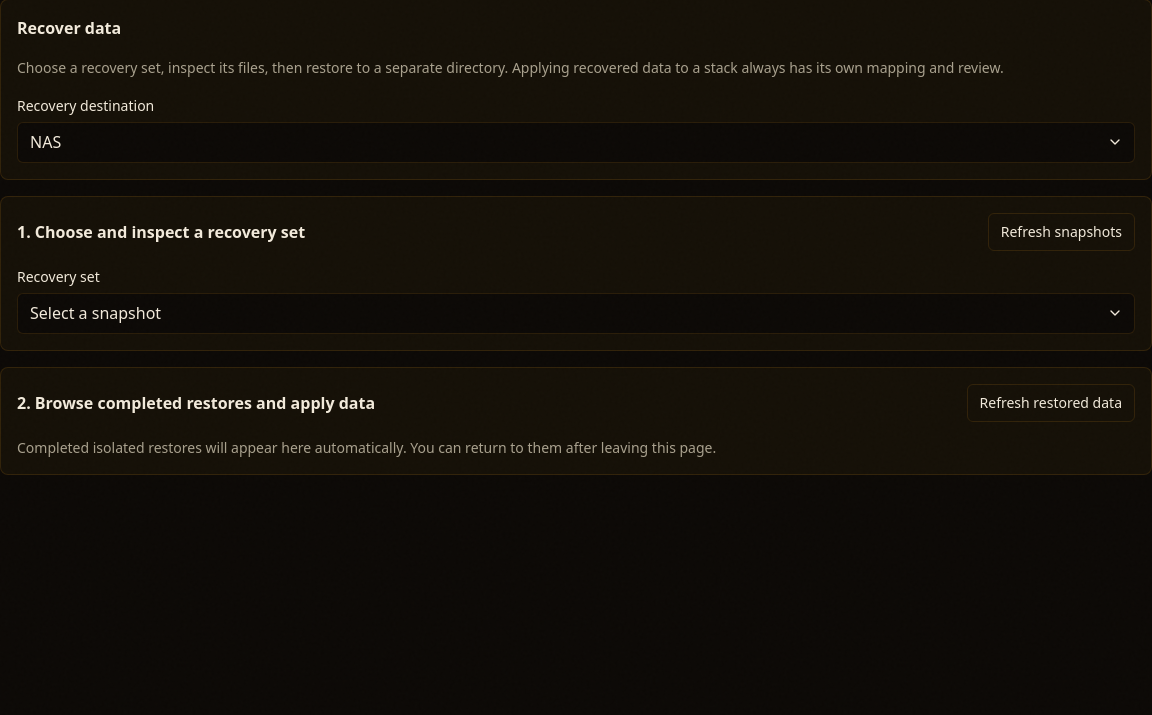
Test: Continuous recovery workspace › compares the chosen source against a baseline snapshot
The image size is (1152, 715).
Select "10/1/2026, 12:00:00 AM UTC · snap · unknown · debian" in the dropdown labelled "Recovery set" at (576, 313), box top-left (17, 293), bottom-right (1135, 334)
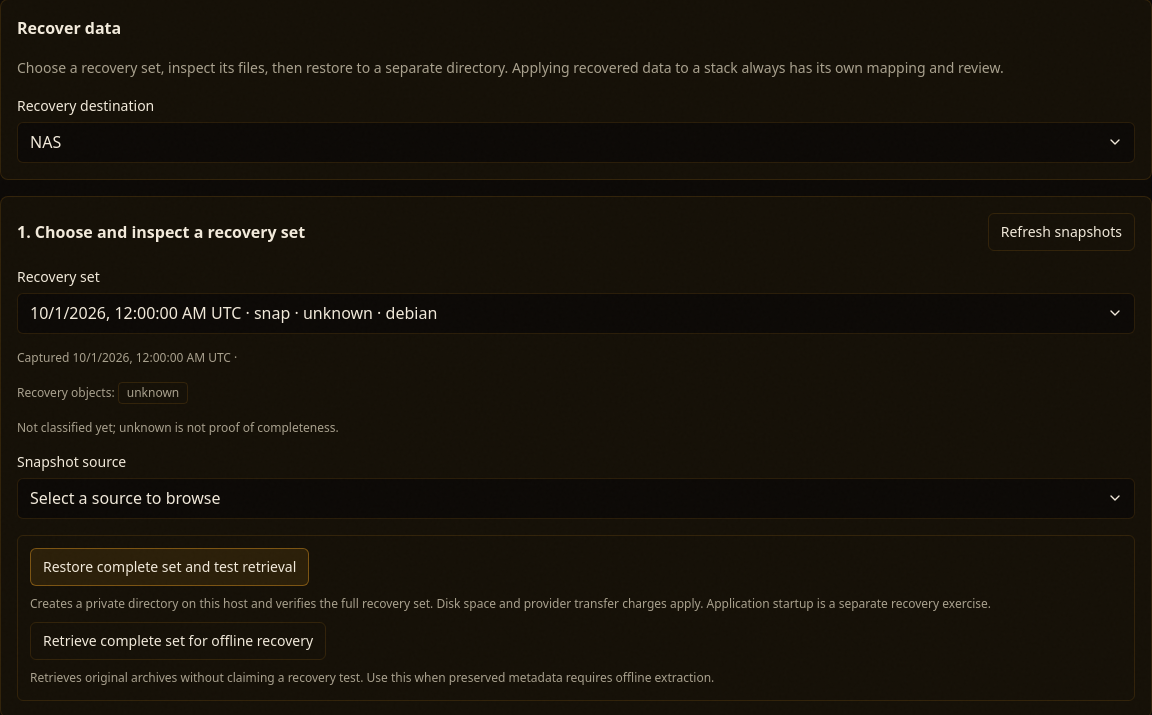
Select "demo / db / /data" in the dropdown labelled "Snapshot source" at (576, 498), box top-left (17, 478), bottom-right (1135, 518)
(page scrolled)
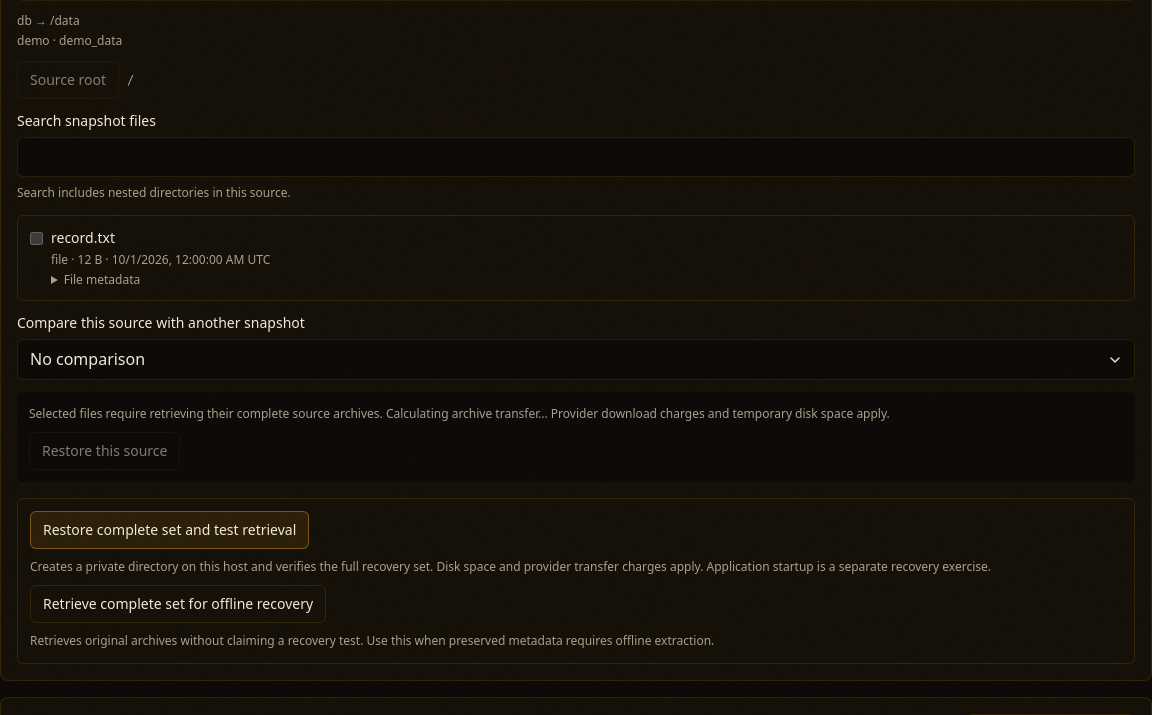
Expected: the text "record.txt" is shown, top-left (51, 228), bottom-right (115, 247)
Select "10/1/2026, 12:00:00 AM UTC · snap" in the dropdown labelled "Compare this source with another snapshot" at (576, 360), box top-left (17, 339), bottom-right (1135, 380)
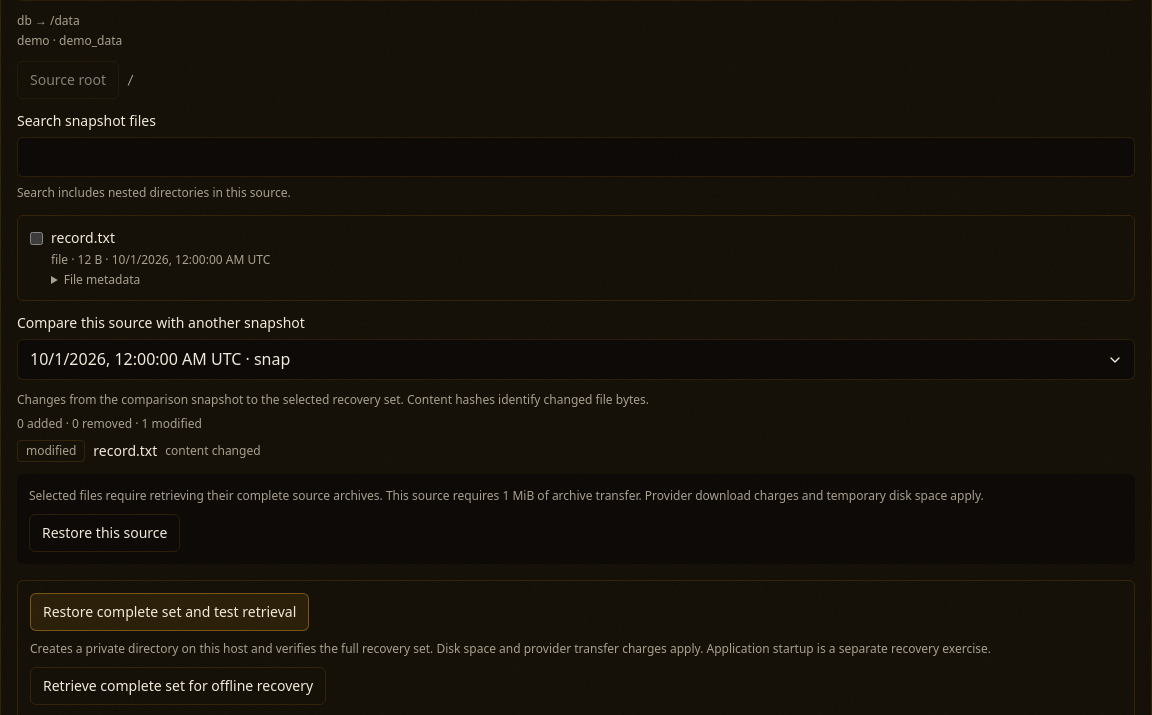
Expected: the text "modified" is shown, top-left (17, 440), bottom-right (85, 462)
